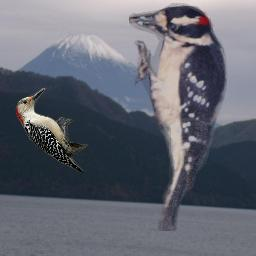Woodpecker: (129, 0, 231, 231), (15, 88, 89, 173)
